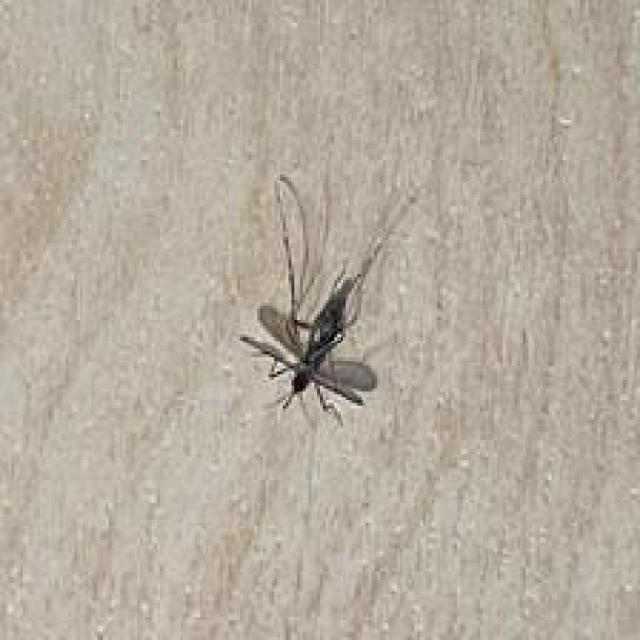Aedes albopictus: (237, 173, 420, 427)
